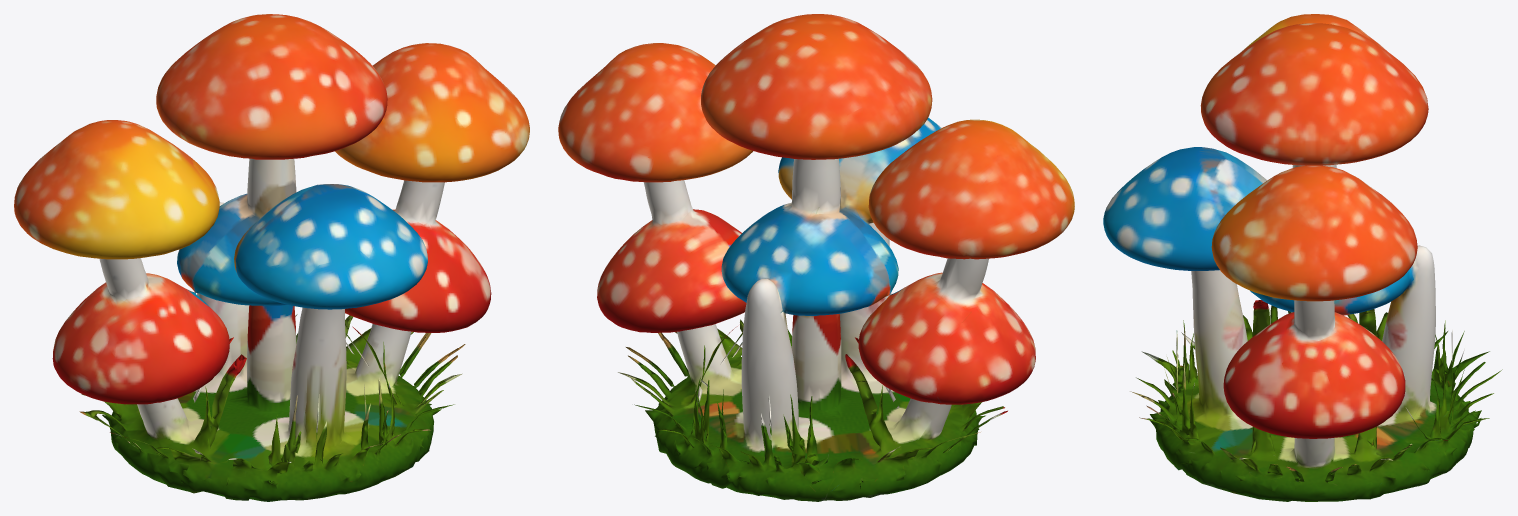
Rendered from mushroom.glb.
3 views of the same model, side by side, from view 1: azimuth 30°, elevation 25°; view 2: azimuth 150°, elevation 25°; view 3: azimuth 270°, elevation 25° (orthographic).
Visible parts, largest first — view 1: model; view 2: model; view 3: model.
Boxes of the visible parts, bbox=[...] form: model: bbox=[14, 14, 529, 501]; model: bbox=[558, 14, 1074, 501]; model: bbox=[1103, 14, 1502, 501].
Size of the model in its own units: 1.9 by 1.52 by 1.37.
1 material, 1 textured.
